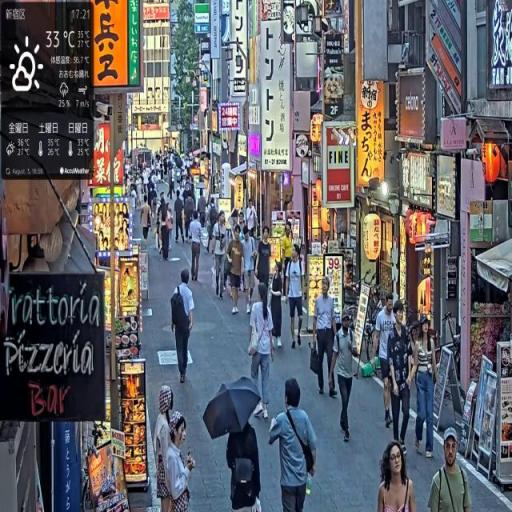person: (269, 378, 320, 512), (332, 308, 363, 446), (248, 280, 277, 427), (388, 303, 417, 449), (413, 315, 440, 461), (429, 426, 472, 512), (311, 273, 340, 399), (227, 424, 264, 512), (375, 293, 398, 434), (171, 267, 197, 386), (377, 440, 419, 512), (287, 248, 306, 353), (211, 209, 232, 299), (226, 229, 247, 316), (269, 259, 285, 352), (189, 211, 203, 286), (160, 199, 175, 263)
